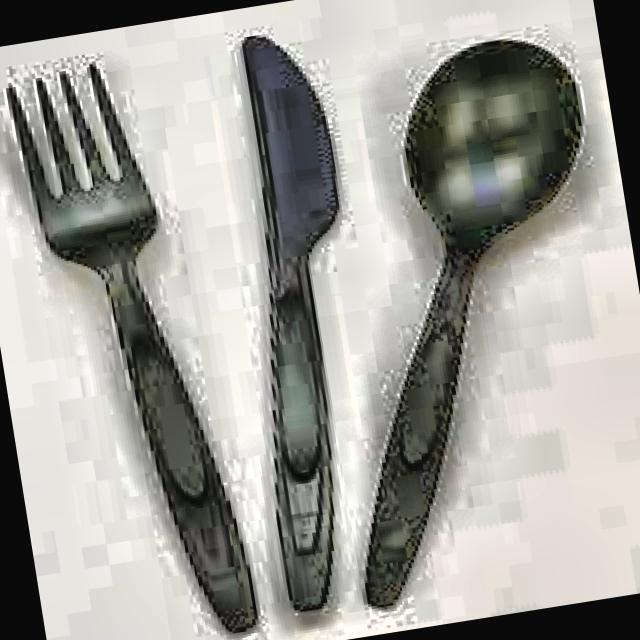plastic utensil: (10, 66, 257, 632), (366, 41, 579, 607), (243, 36, 338, 611)
